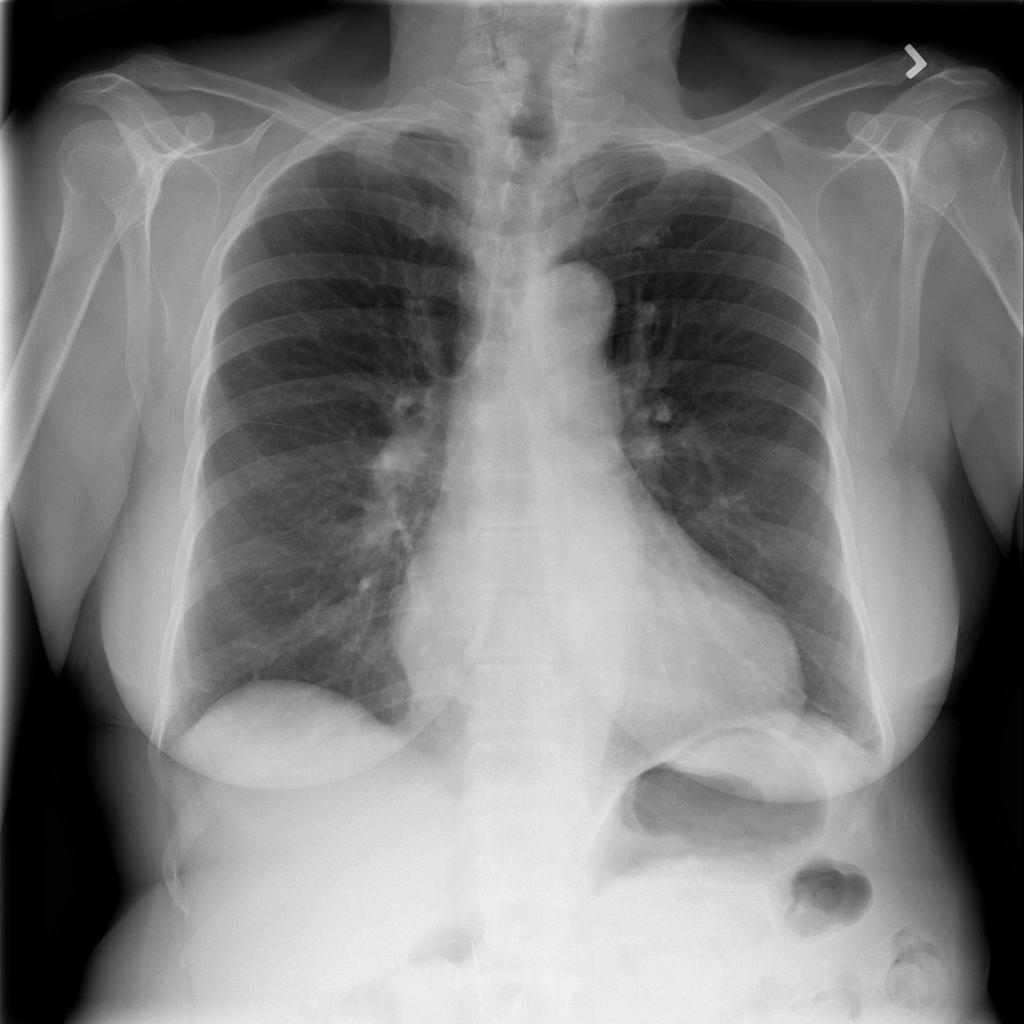Cardiomegaly: (371, 367, 825, 792)
